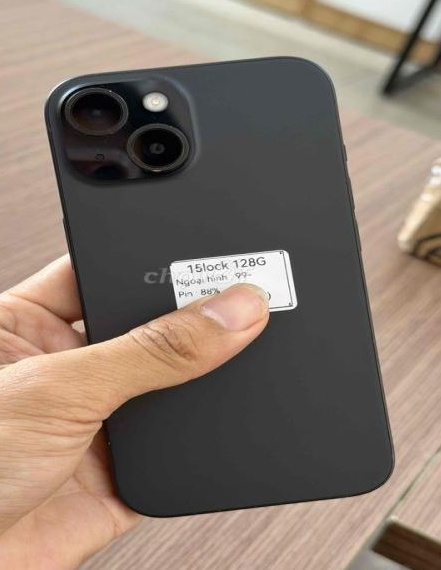scratch: (148, 168, 165, 175), (106, 87, 114, 93)
